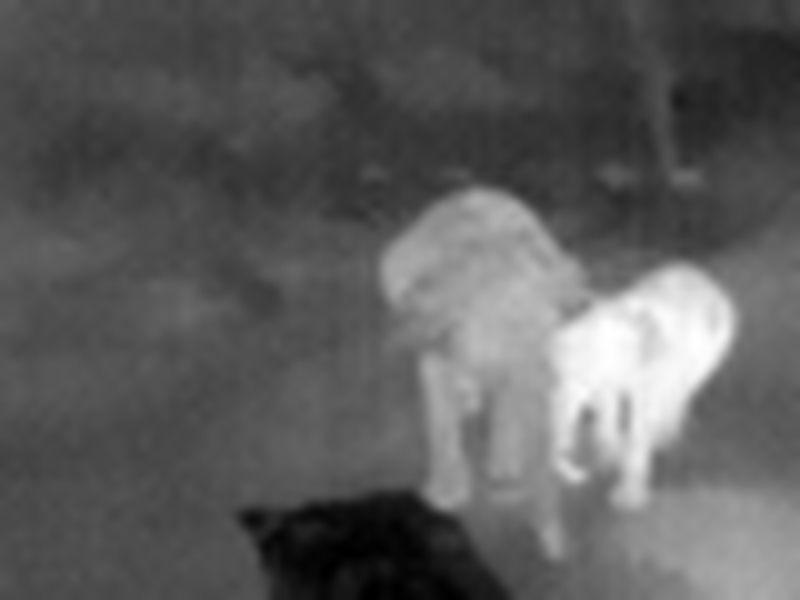elephant: (370, 176, 737, 520)
